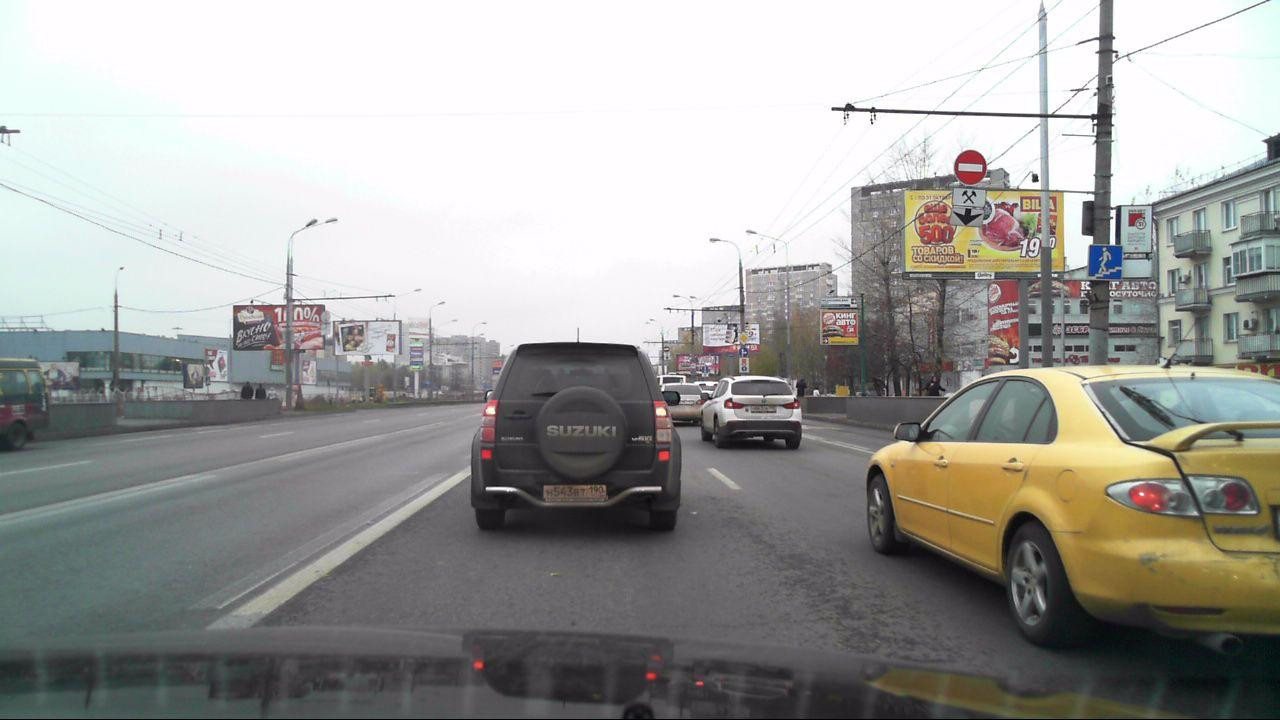2_1: (738, 332, 748, 344)
3_1: (952, 149, 988, 185), (663, 345, 671, 351)
4_1_4: (738, 347, 748, 357)
4_8_1: (739, 357, 749, 372)
6_6: (1089, 244, 1122, 280)
8_14: (952, 206, 984, 228), (662, 356, 672, 361)
8_5_2: (951, 189, 986, 208), (663, 352, 671, 356)
